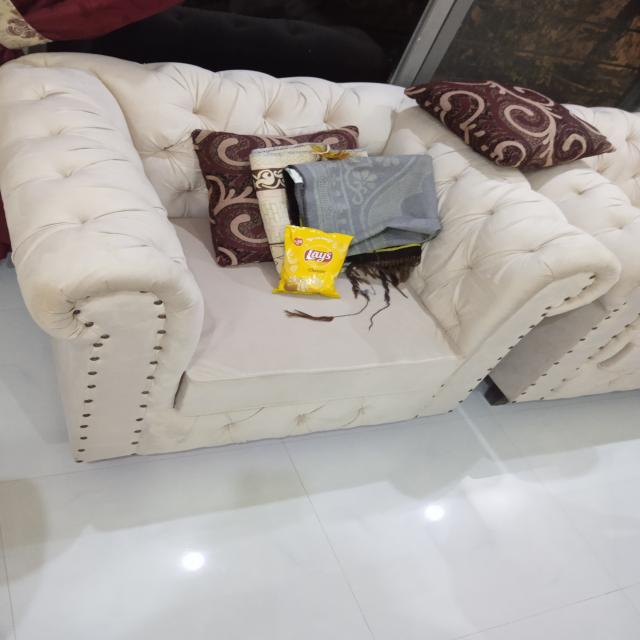Plastic: (275, 220, 357, 306)
